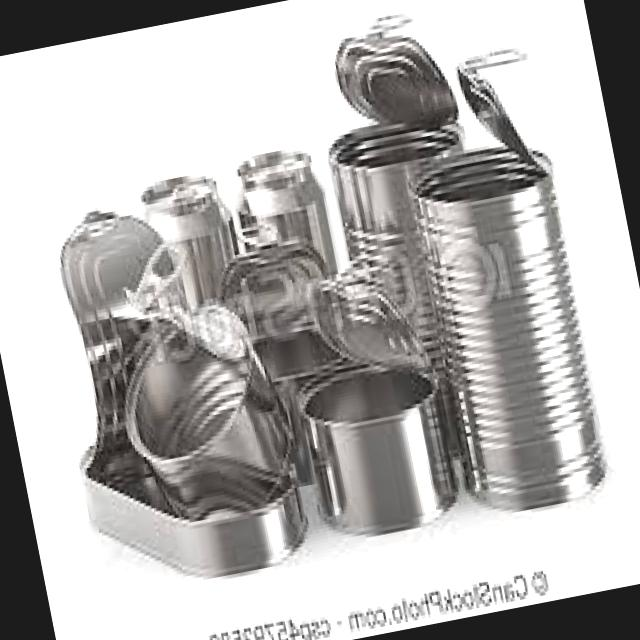metal: (60, 212, 305, 576), (413, 149, 604, 510), (328, 15, 461, 437), (298, 275, 457, 534), (124, 306, 290, 520), (328, 125, 461, 368), (221, 243, 339, 485), (59, 211, 161, 485), (82, 452, 305, 577), (301, 366, 457, 535), (335, 14, 457, 129), (253, 327, 339, 485), (140, 176, 235, 310), (235, 151, 336, 275), (310, 275, 431, 374), (456, 47, 542, 175), (221, 242, 328, 339)
